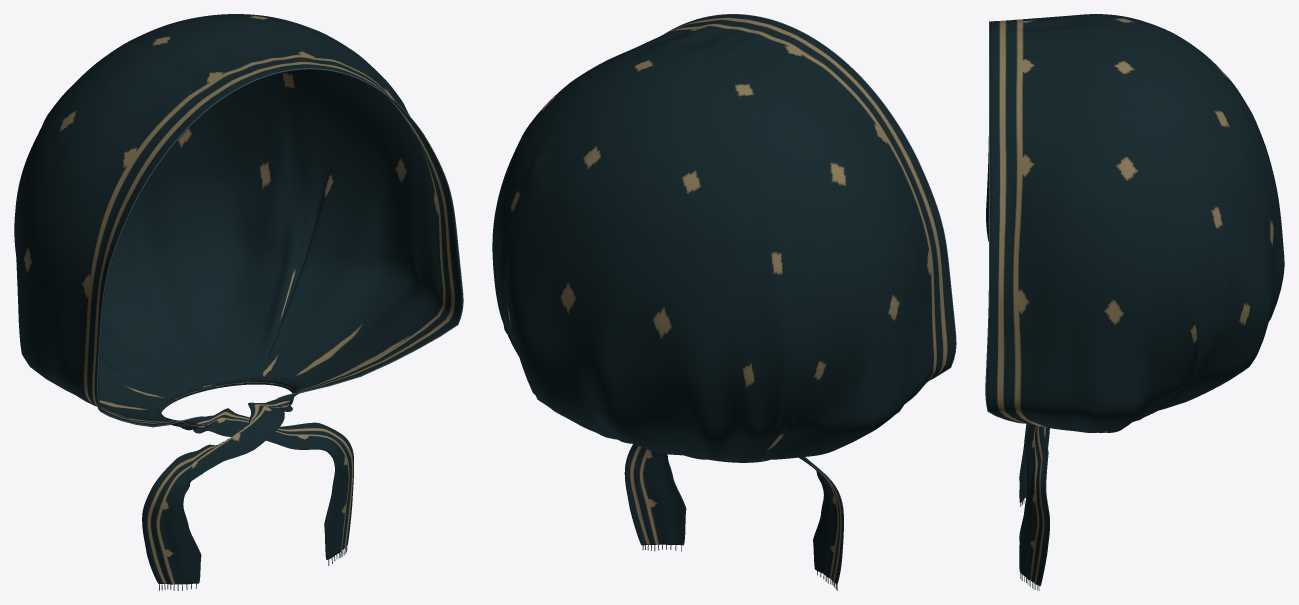
Rendered from Masculine-buttonup-pashmina245-headgear.glb.
The picture shows the model from 3 angles, left to right: view 1: azimuth 30°, elevation 25°; view 2: azimuth 150°, elevation 25°; view 3: azimuth 270°, elevation 25°; orthographic projection. The views are drawn at different scales.
Parts seen in each view (by area): view 1: 226 headgear / Headwear / continuous woven pashmina239, 226 headgear / Headwear / face edge239; view 2: 226 headgear / Headwear / continuous woven pashmina239, 226 headgear / Headwear / face edge239; view 3: 226 headgear / Headwear / continuous woven pashmina239, 226 headgear / Headwear / face edge239.
Part boxes in pixels (left/top/right/bottom): 226 headgear / Headwear / continuous woven pashmina239: left=14, top=14, right=462, bottom=584; 226 headgear / Headwear / face edge239: left=97, top=68, right=463, bottom=427; 226 headgear / Headwear / continuous woven pashmina239: left=492, top=14, right=955, bottom=584; 226 headgear / Headwear / face edge239: left=665, top=14, right=956, bottom=380; 226 headgear / Headwear / continuous woven pashmina239: left=986, top=14, right=1284, bottom=586; 226 headgear / Headwear / face edge239: left=985, top=21, right=1021, bottom=423.
Size of the model in its own units: 1.03 by 1.35 by 0.7127.
Materials: 3 (1 with a texture image).
